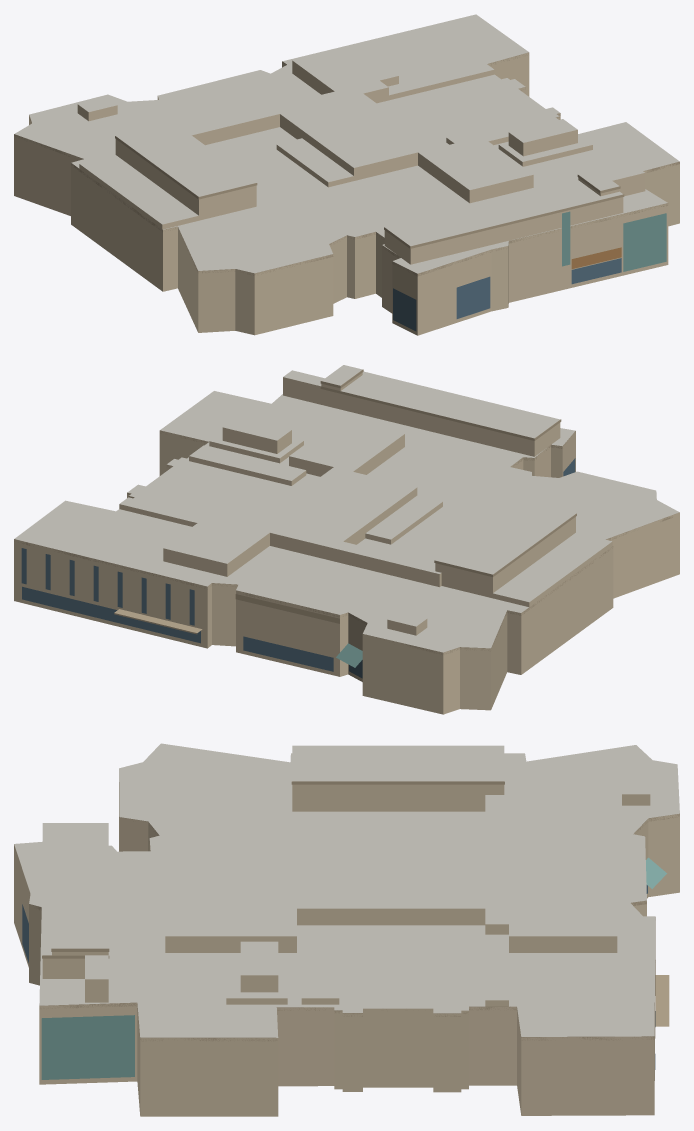
The model's file is den-museum-of-nature-and-science.glb.
3 renders of one model, top to bottom at view 1: azimuth 30°, elevation 25°; view 2: azimuth 150°, elevation 25°; view 3: azimuth 270°, elevation 25°, orthographic. The views are drawn at different scales.
Visible parts, largest first — view 1: Denver Museum of Nature & Science; view 2: Denver Museum of Nature & Science; view 3: Denver Museum of Nature & Science.
Part boxes in pixels (<box>): Denver Museum of Nature & Science: <box>14,14,679,335</box>; Denver Museum of Nature & Science: <box>14,365,679,714</box>; Denver Museum of Nature & Science: <box>14,743,679,1116</box>.
Bounding box in the file's own units: 148 × 25.59 × 141.
